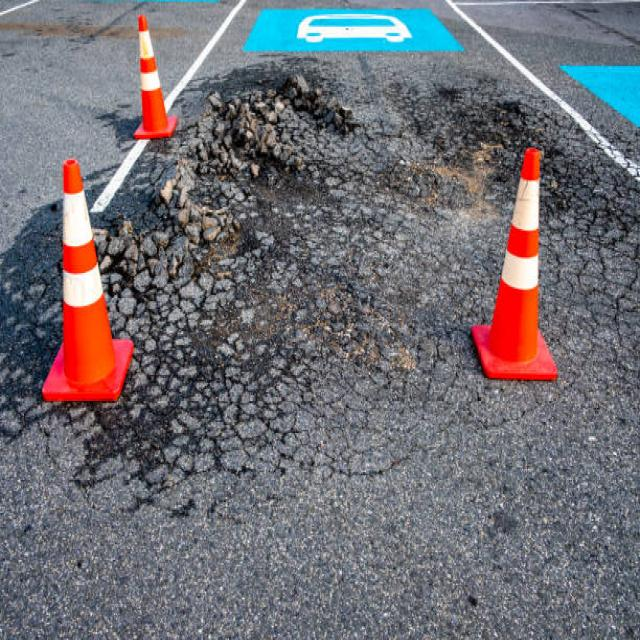Traffic Cone: (456, 103, 570, 430), (26, 130, 140, 417), (109, 0, 184, 153)
